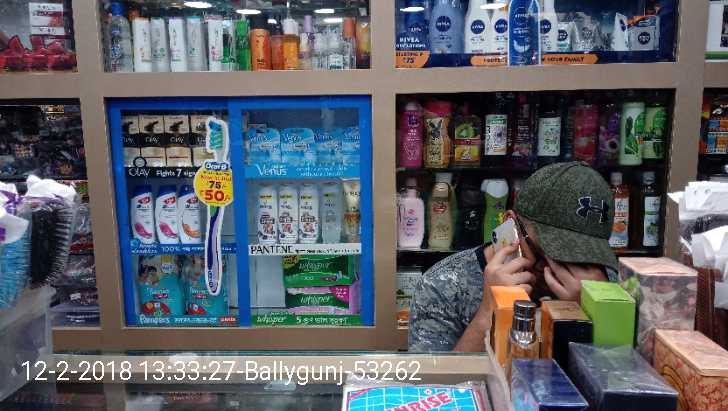venus: (247, 127, 282, 165), (282, 130, 315, 165), (315, 130, 342, 170), (342, 129, 360, 170)
